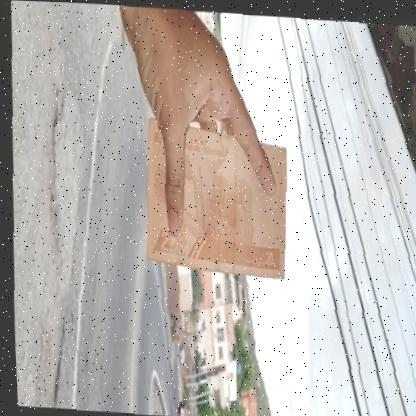twenty-back-vef: (139, 116, 290, 276)
